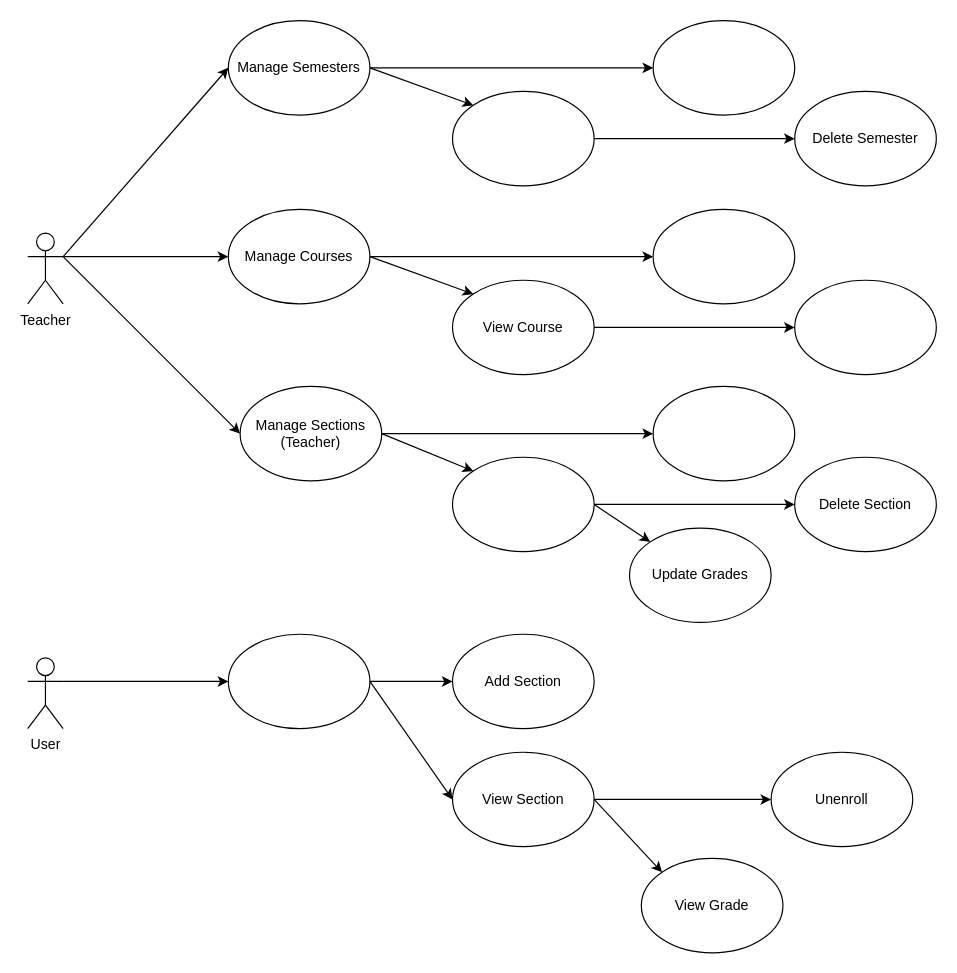
Some shapes in this 957 by 973 pixel diagram are drawn without their labels. The shapes that lost their labels are listed below. From the top down, each one's centre as x and y in pixels, then its label:
(x=723, y=67): Create Semester
(x=522, y=138): View Semester
(x=723, y=256): Create Course
(x=865, y=327): Delete Course
(x=723, y=433): Create Section
(x=522, y=504): View Section (Teacher)
(x=298, y=681): Manage Sections (Student)
